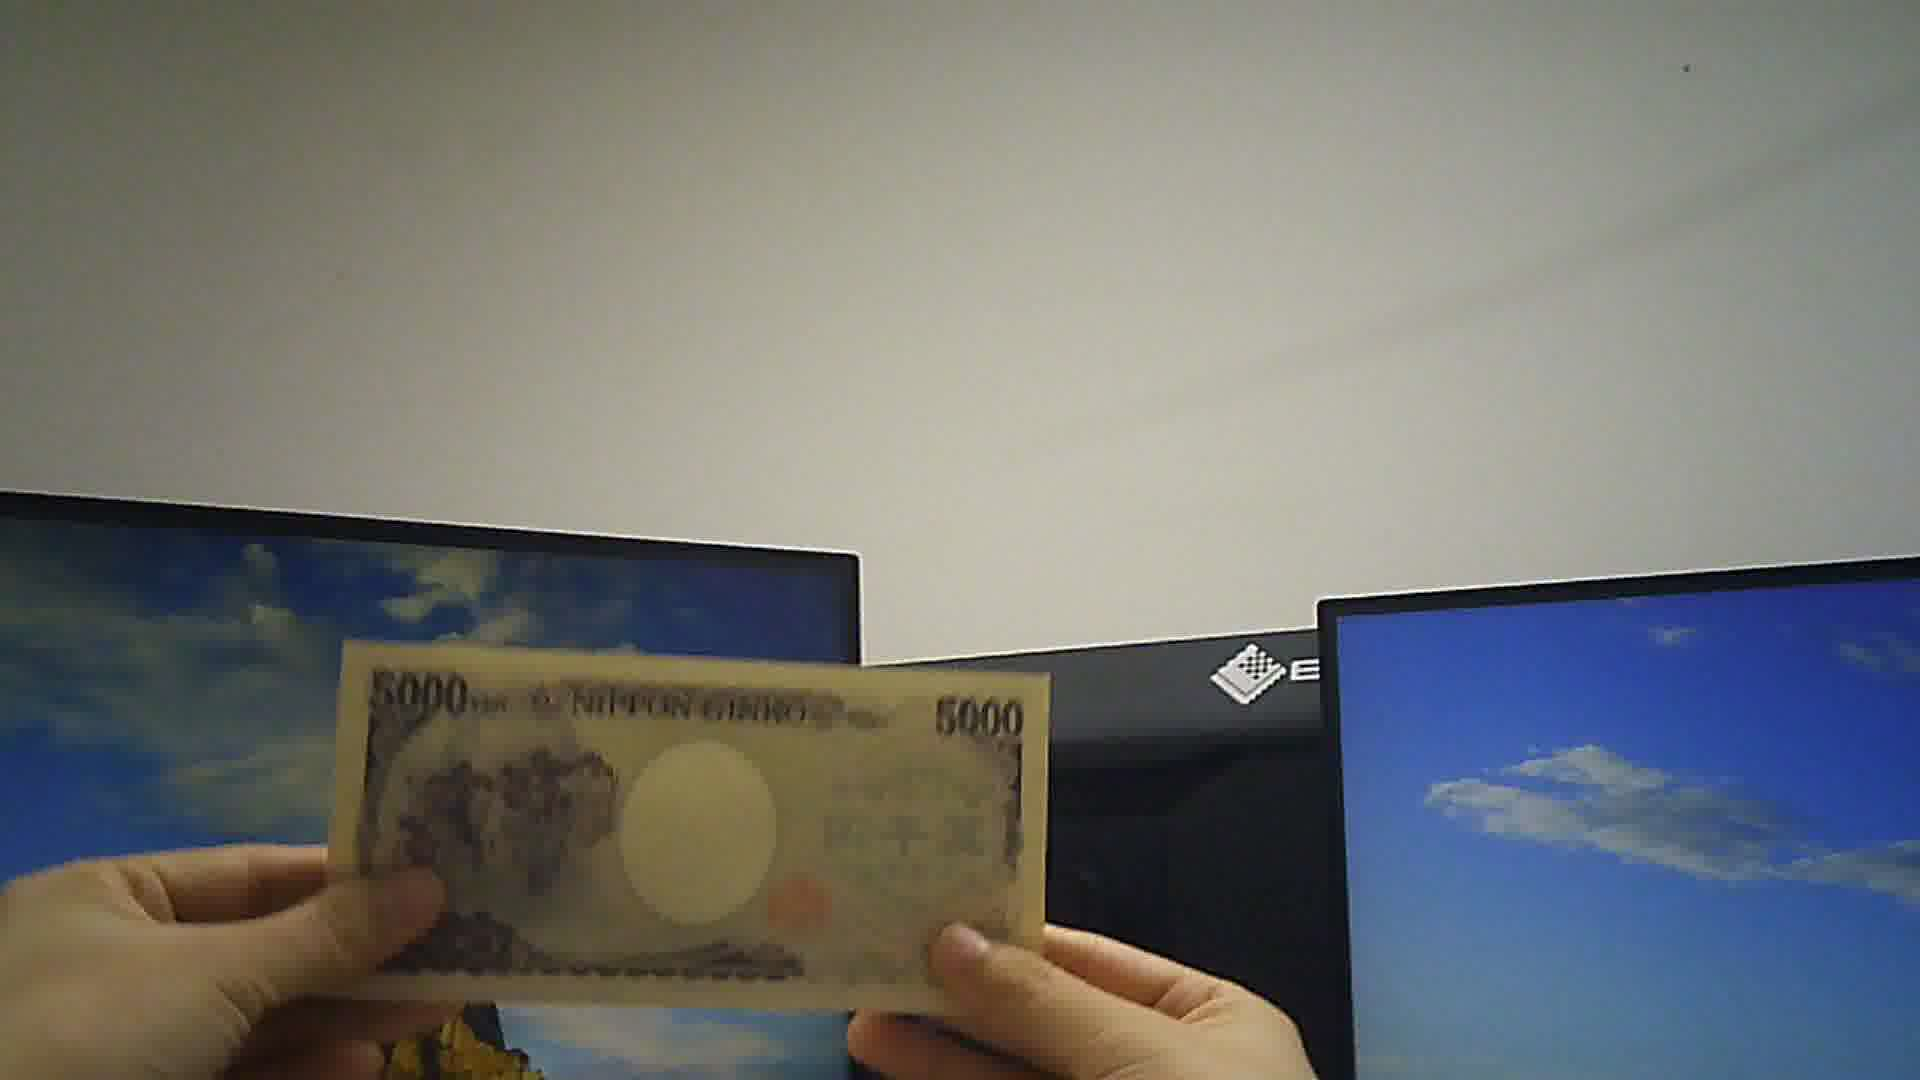5,000 Yen: (309, 622, 1069, 1004)
